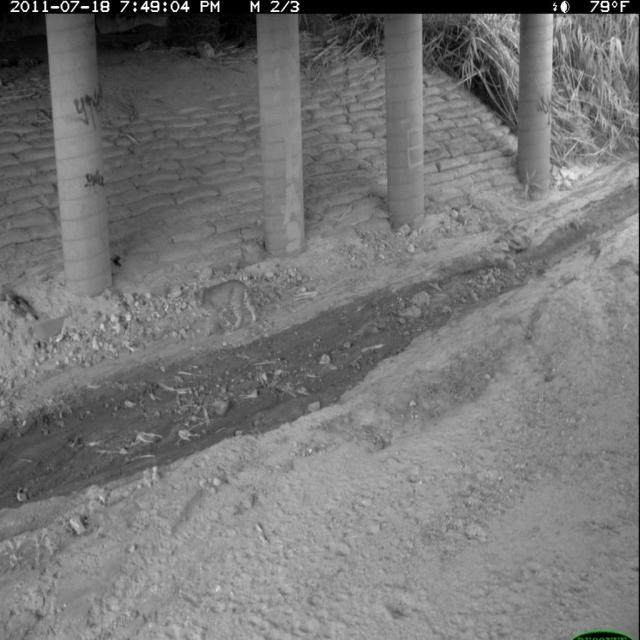bobcat: (187, 273, 263, 343)
